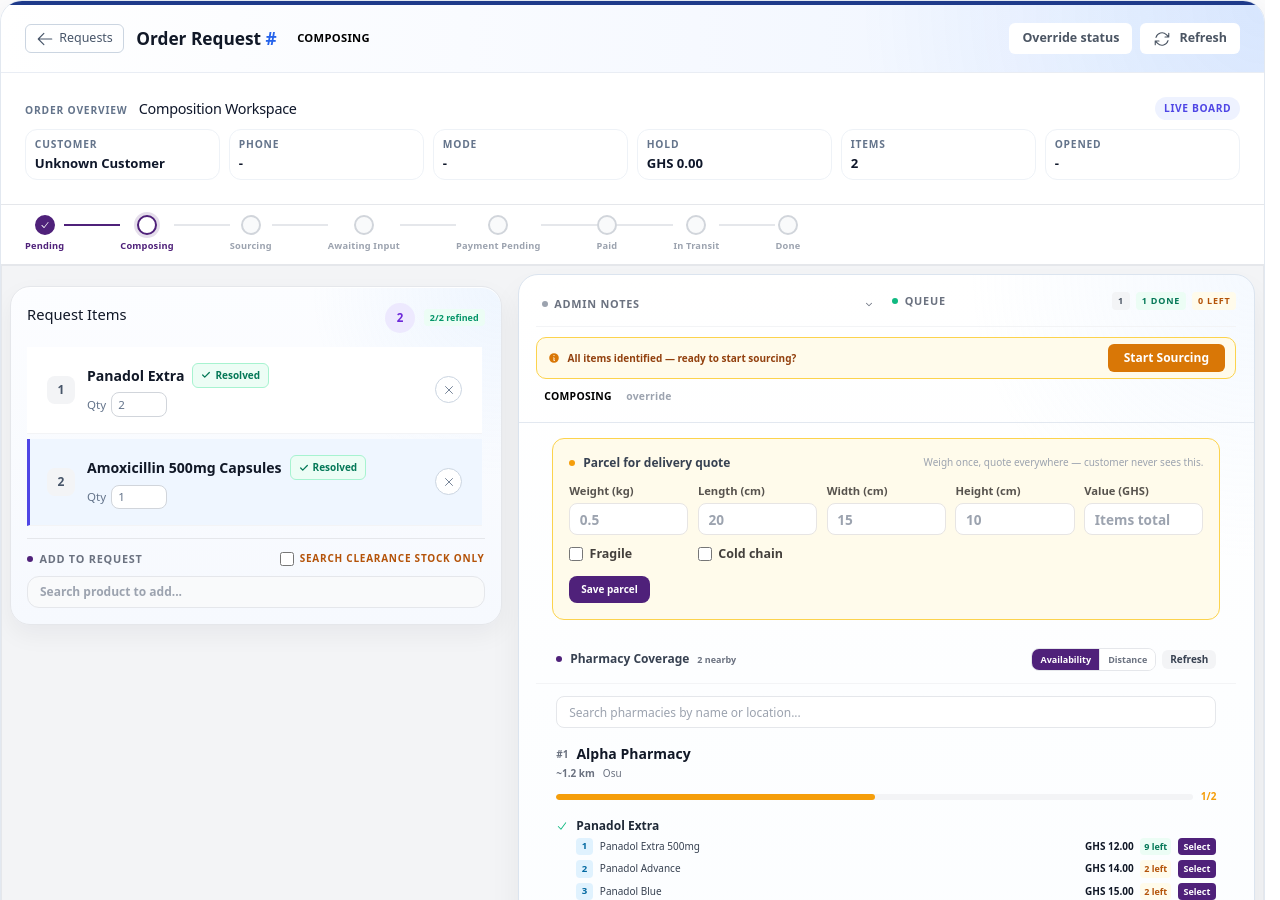
Scenario: coverage matrix: picking a match › says so when the choice cannot be saved
Click the button "Select" in the row of "GHS 14.00" at (1197, 869), box [1178, 860, 1216, 878]
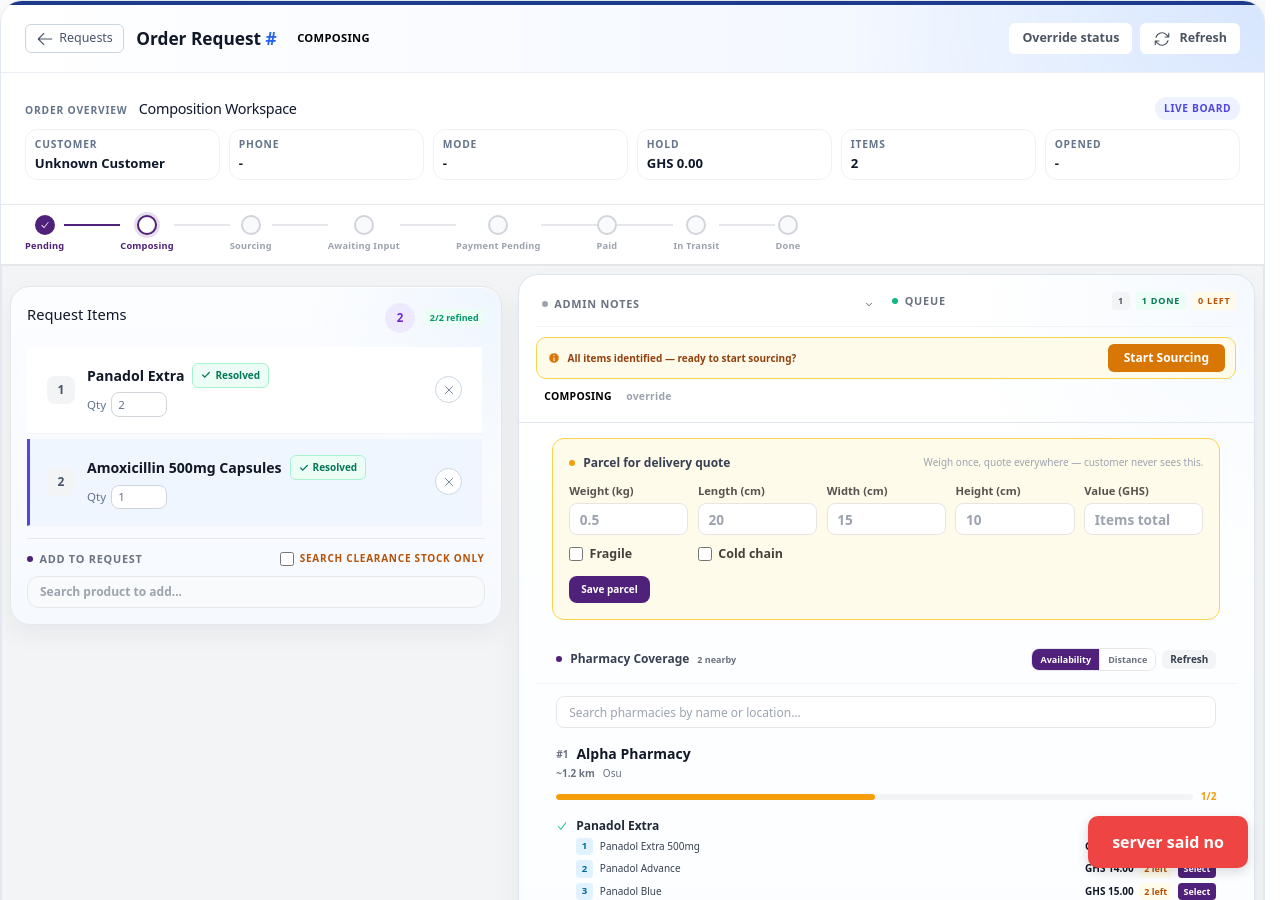
Expected: the text "server said no" is shown, [1088, 816, 1248, 868]
